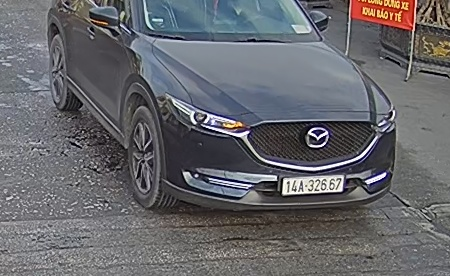vehicle plate: (281, 172, 347, 197)
